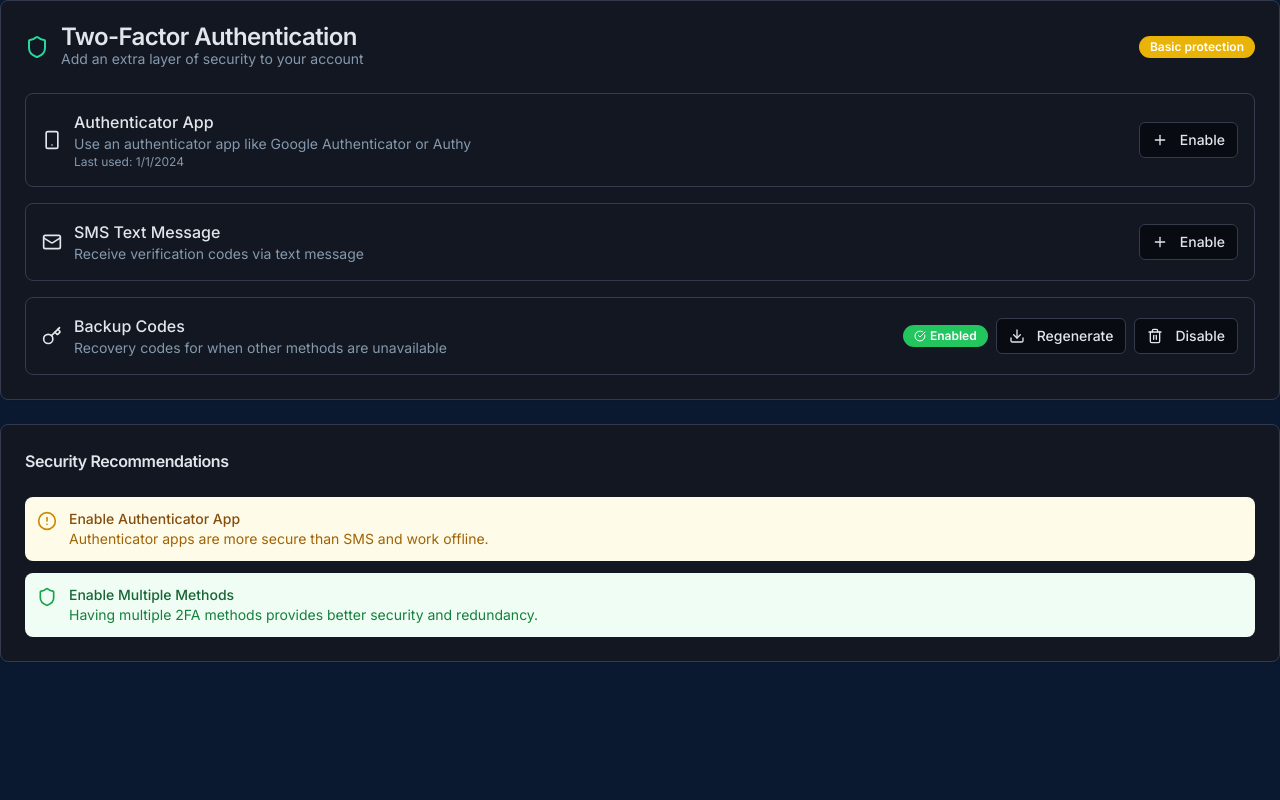
Scenario: TwoFactorManagement › Backup Codes › should generate new backup codes when regenerate is clicked
Click the button "Regenerate": [1061, 336] box [996,318,1126,354]
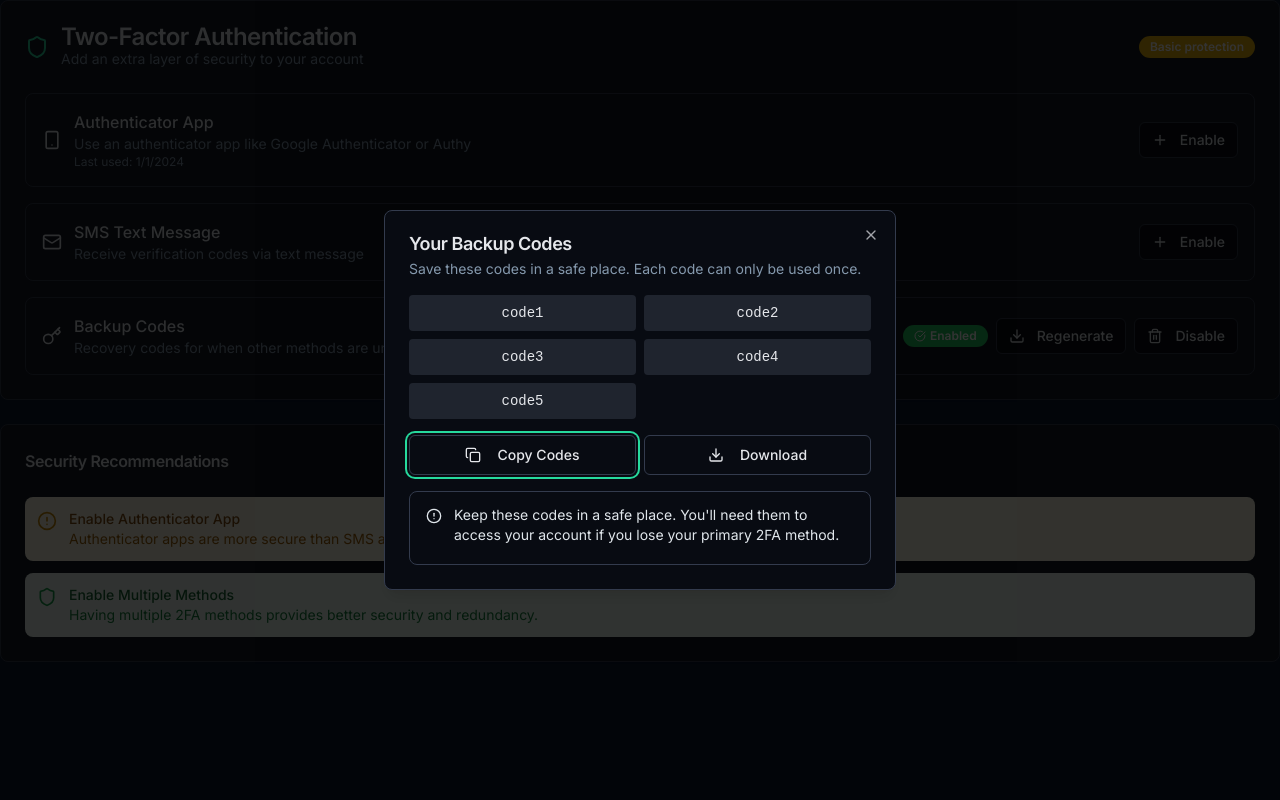
Result: the heading "Your Backup Codes" is shown at [409,233,572,254]
Result: the text "code1" is shown at [409,295,636,331]
